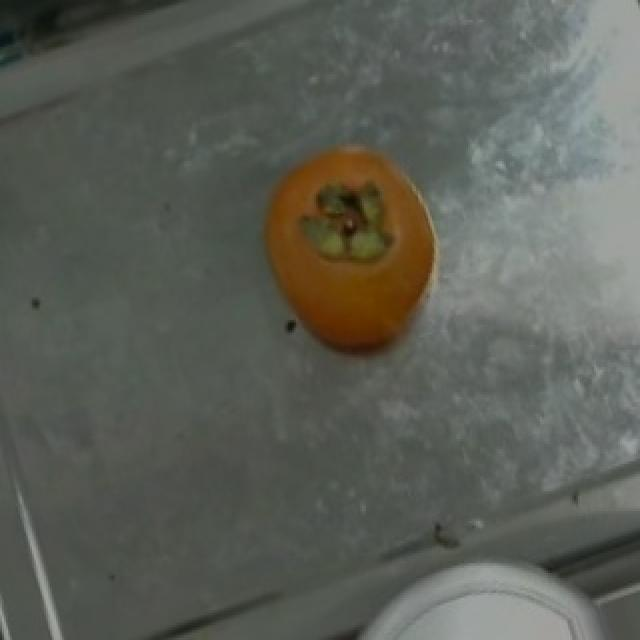Fruit: (238, 122, 462, 370)
